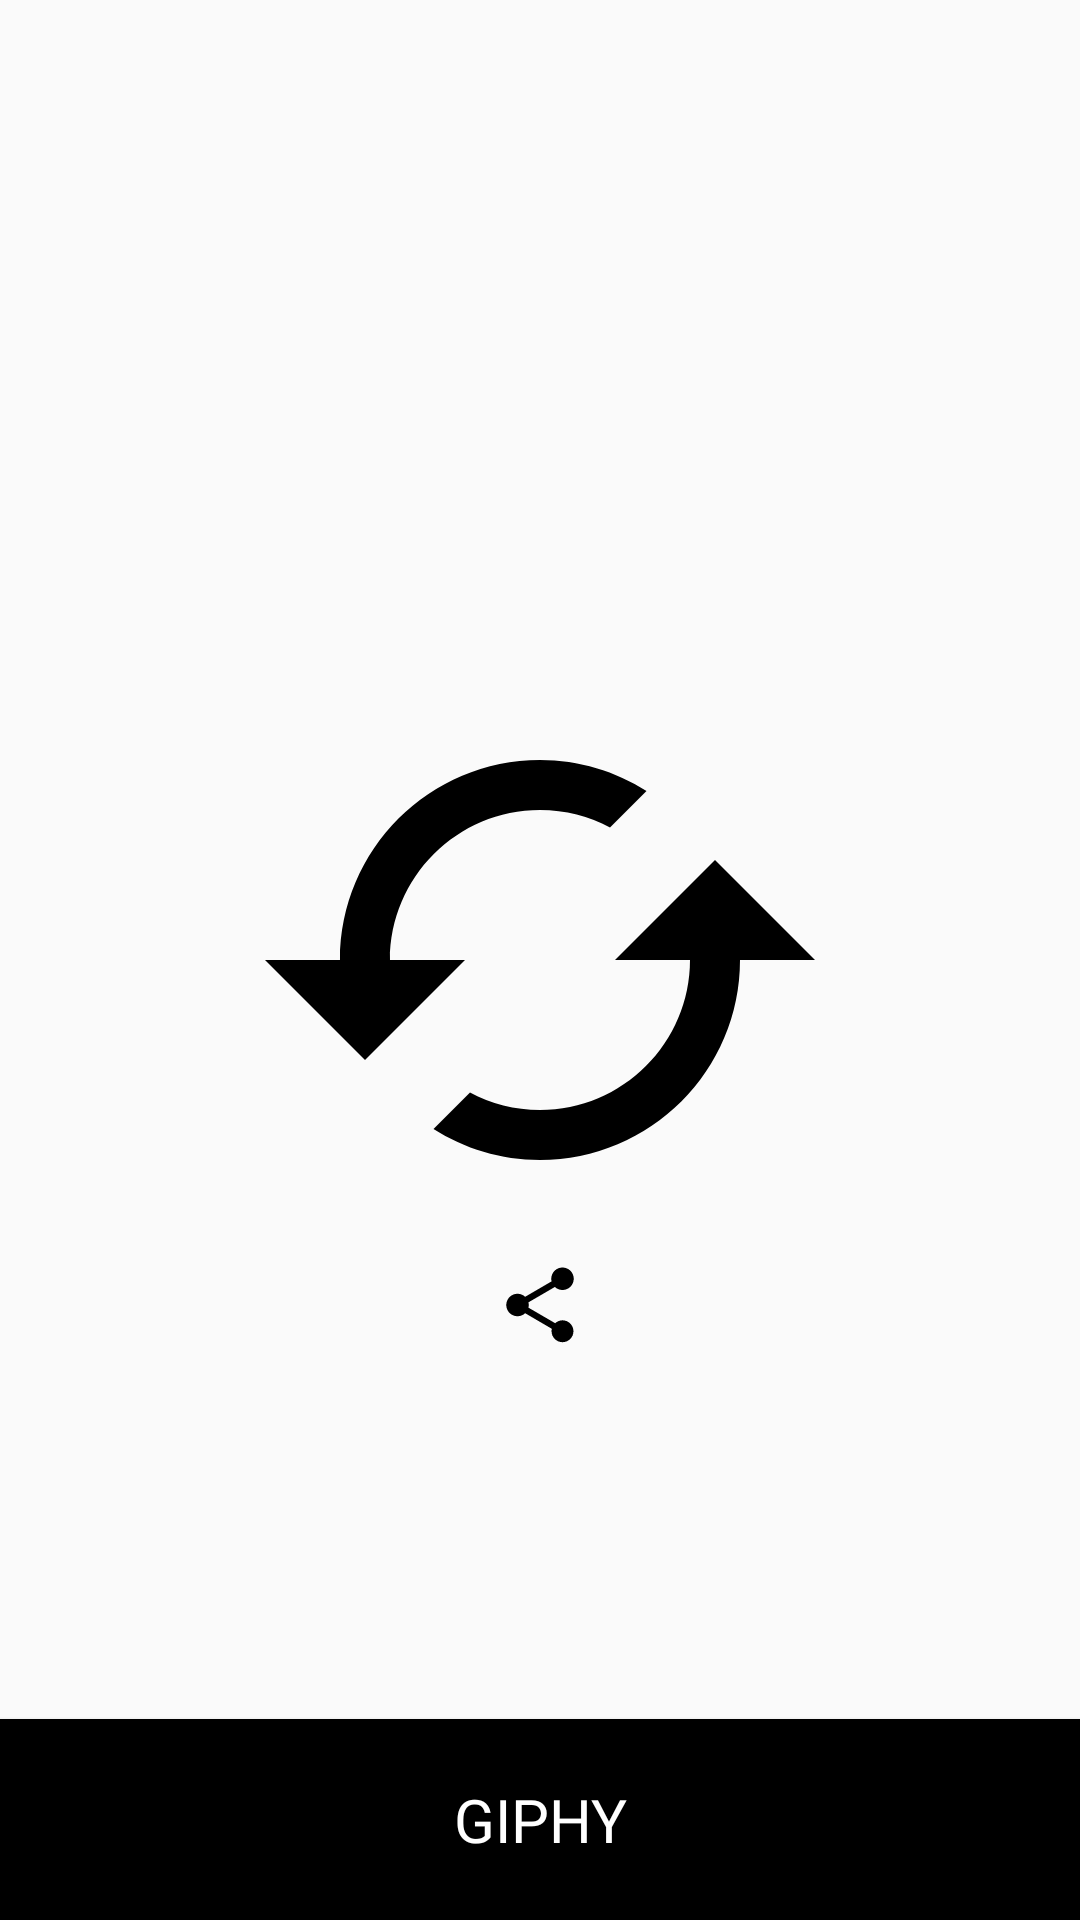

Icons on this 1080 x 1920 Android screen, each with the point to tap as (x,y):
share: (540,1305)
